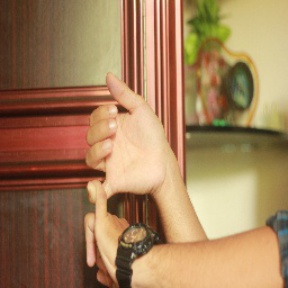S: (74, 68, 166, 288)
